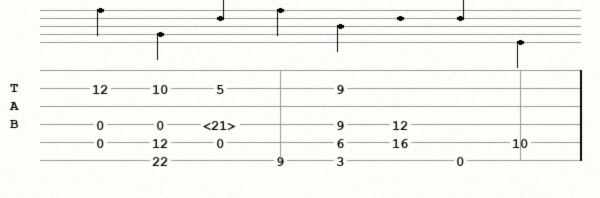0: (96, 136, 108, 149), (96, 118, 108, 131), (156, 118, 168, 131), (216, 136, 228, 149), (456, 154, 468, 167)
10: (152, 82, 172, 95), (512, 136, 532, 149)
12: (92, 82, 112, 95), (152, 136, 172, 149), (392, 118, 412, 131)
16: (392, 136, 412, 149)
22: (152, 154, 172, 167)
3: (336, 154, 348, 167)
5: (216, 82, 228, 95)
6: (336, 136, 348, 149)
9: (276, 154, 288, 167), (336, 118, 348, 131), (336, 82, 348, 95)
harmonic: (203, 118, 241, 131)
